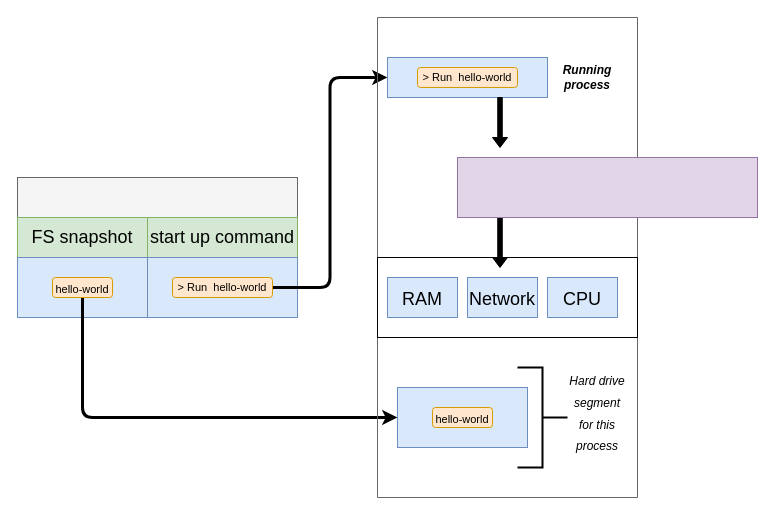
This 775x515 diagram has some shape labels left out. The centre of each missing label's shape, as x and y in pixels:
image: point (157, 197)
Kernel: point (607, 187)
